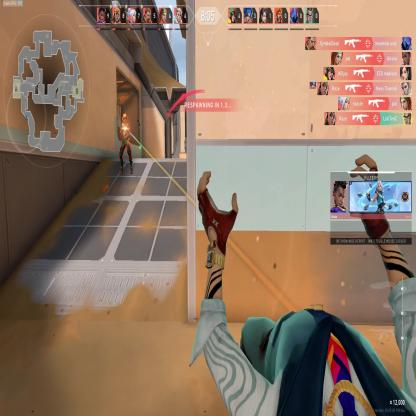enemy: (116, 111, 134, 176)
